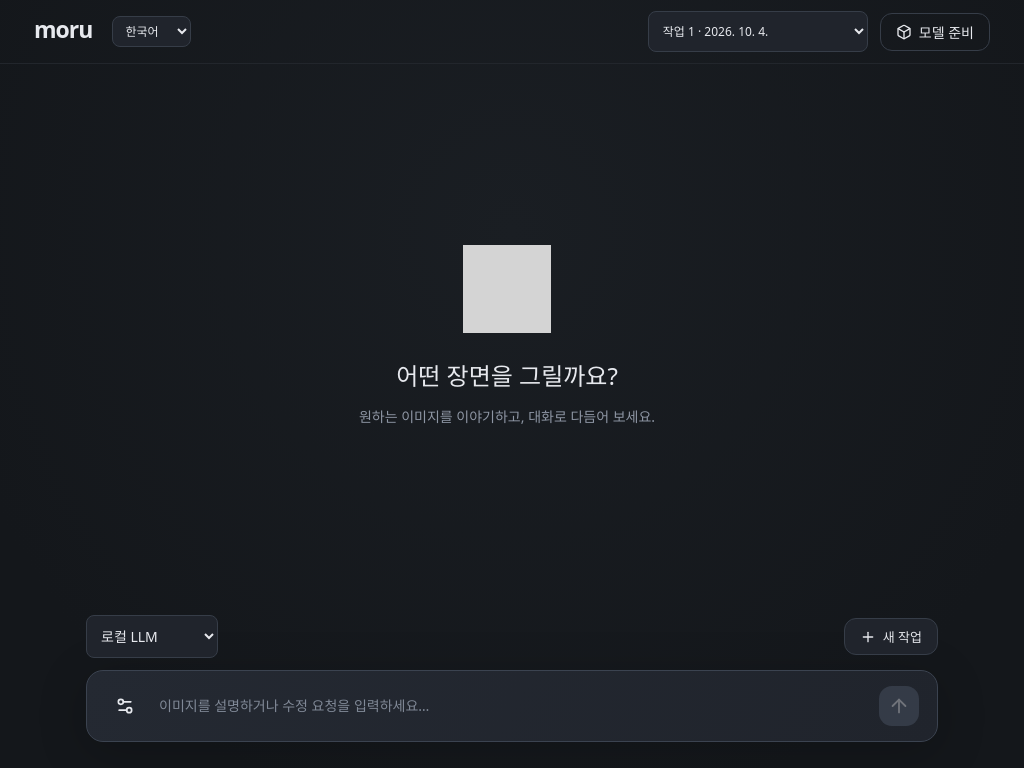
Test: changes the active model only when generation settings are saved
Expected: the heading "어떤 장면을 그릴까요?" is shown, [396,357,618,392]
Click the button "모델 준비" at (935, 32), box [880,12,990,50]
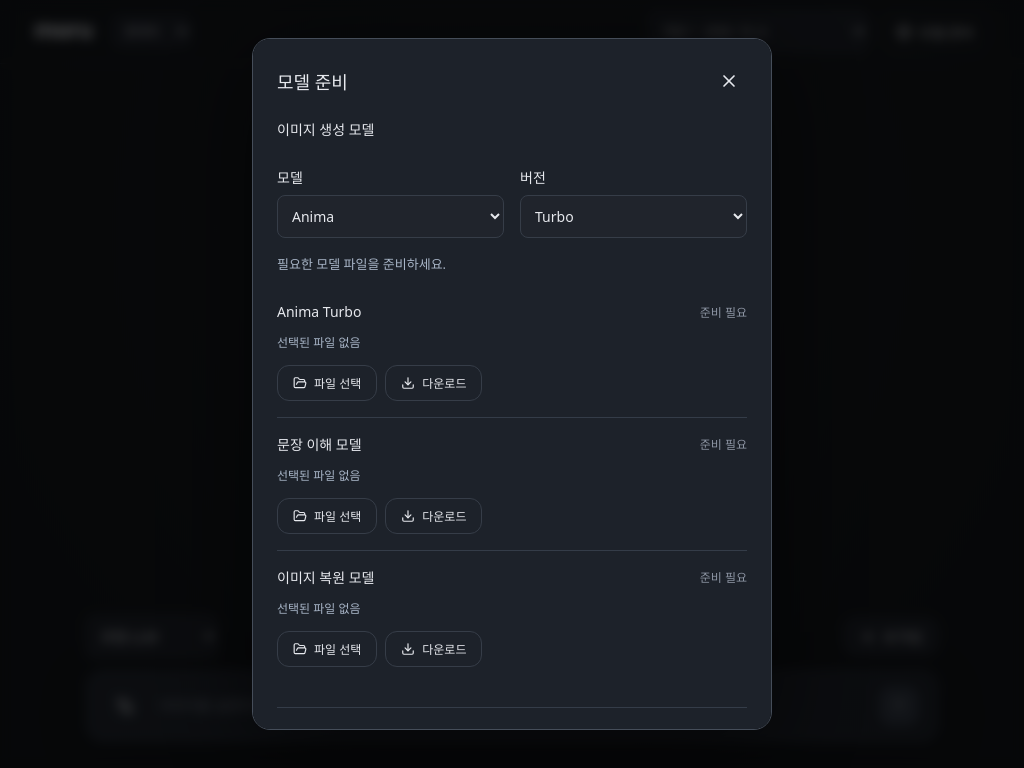
Select "Aesthetic" in the dropdown labelled "버전" at (634, 217), box [520,195,747,238]
Press Escape
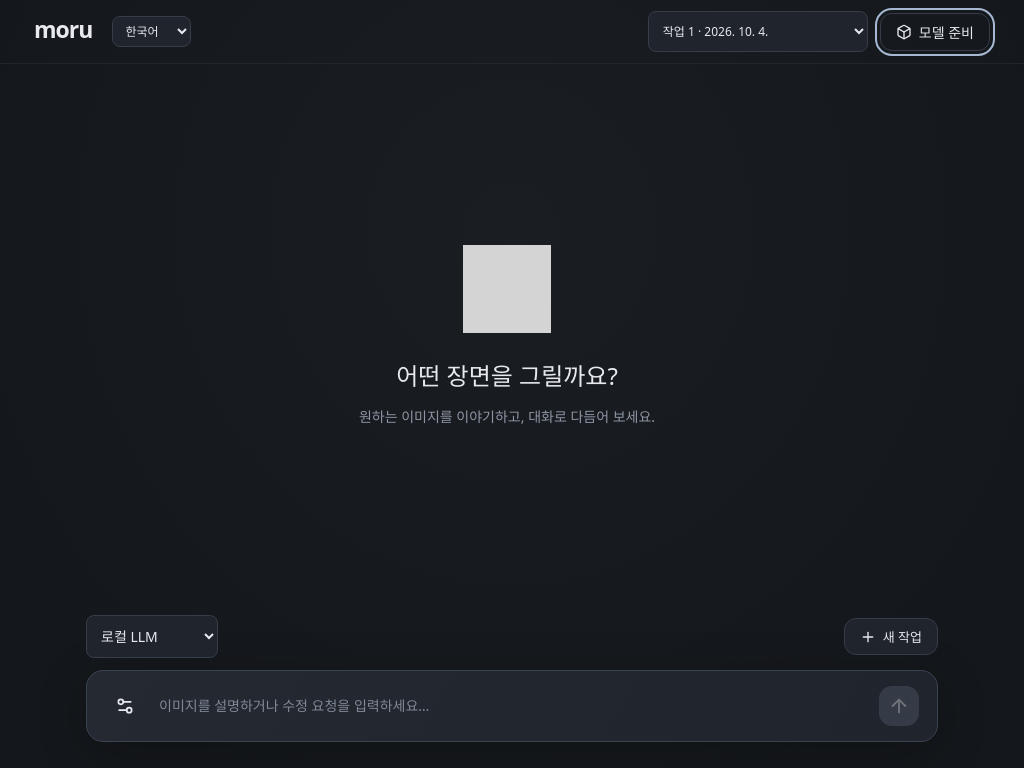
Click the button named "생성 설정" at (125, 706), box [105,686,145,726]
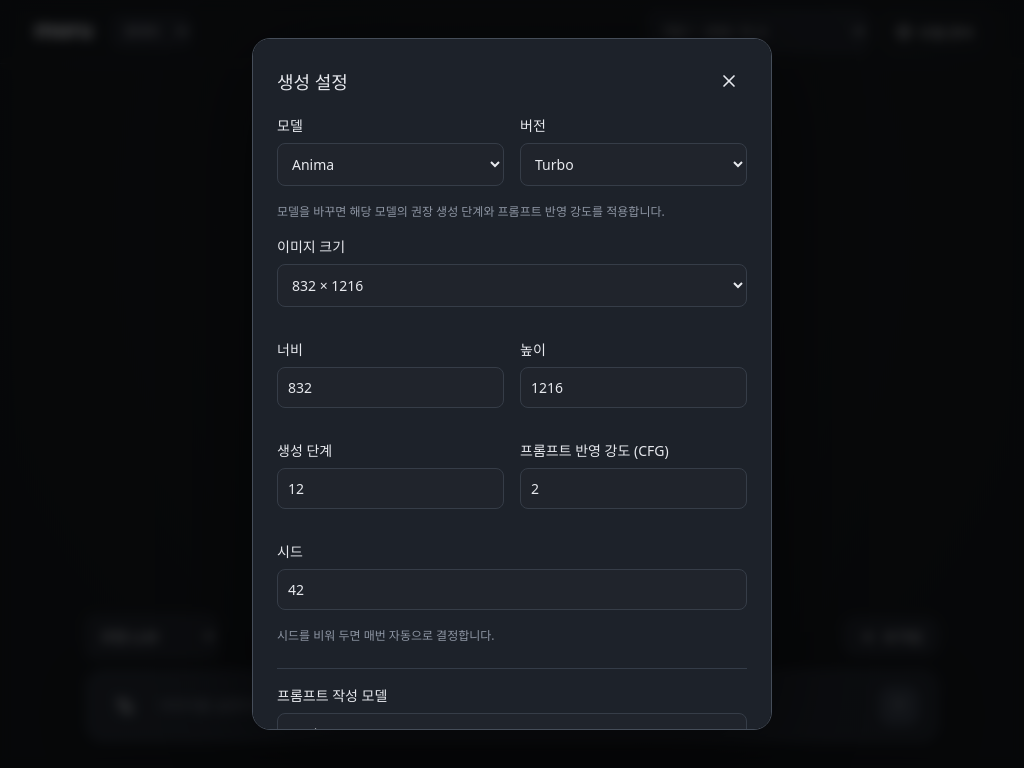
Result: the dropdown labelled "버전" shows "Turbo"
Result: the number field labelled "생성 단계" holds "12" at [277,468,504,509]
Result: the number field labelled "프롬프트 반영 강도 (CFG)" holds "2" at [520,468,747,509]
Select "Aesthetic" in the dropdown labelled "버전" at (634, 165), box [520,143,747,186]
(page scrolled)
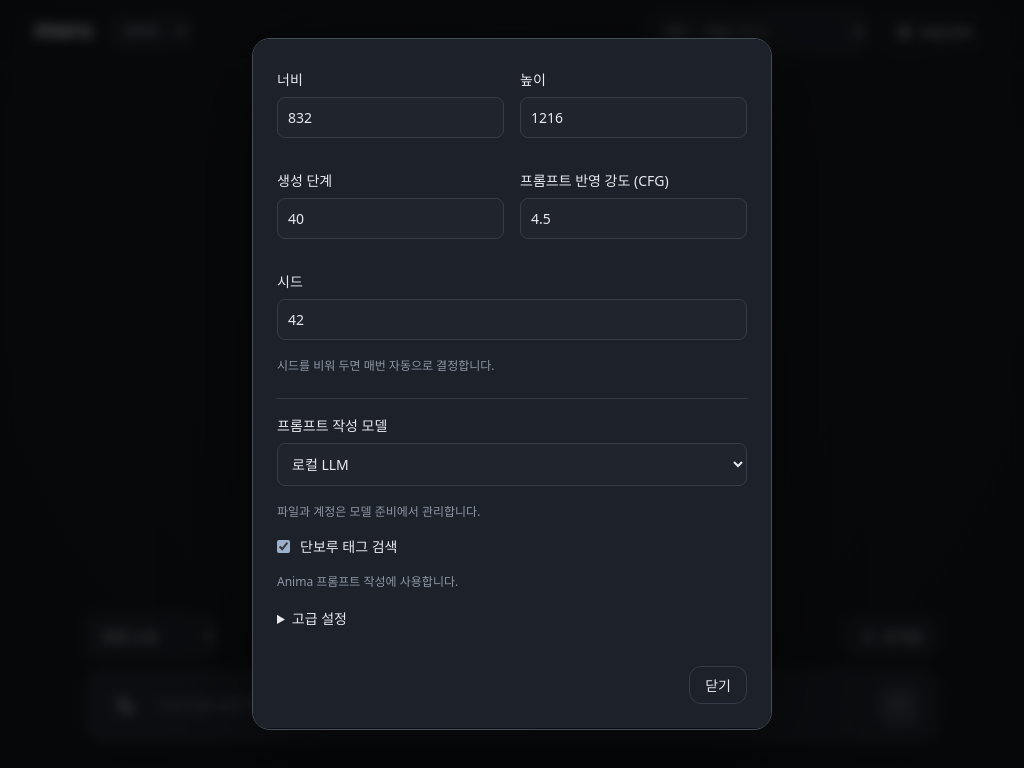
Click the button "닫기" at (718, 685), box [689,666,747,704]
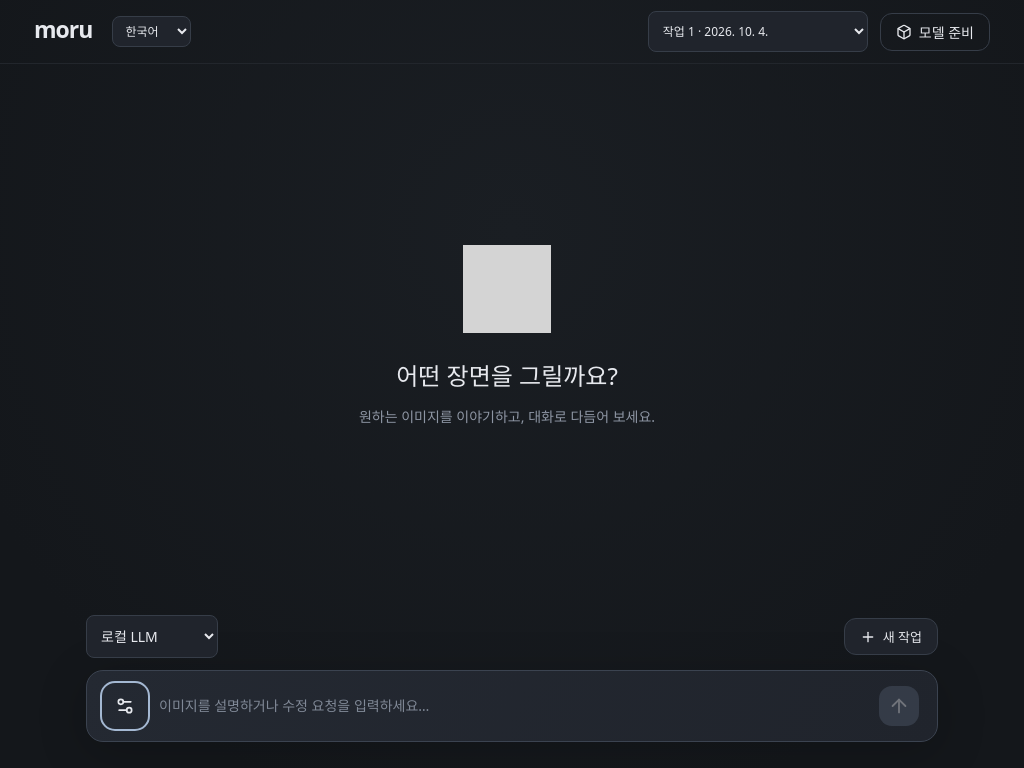
Click the button "모델 준비" at (935, 32), box [880,12,990,50]
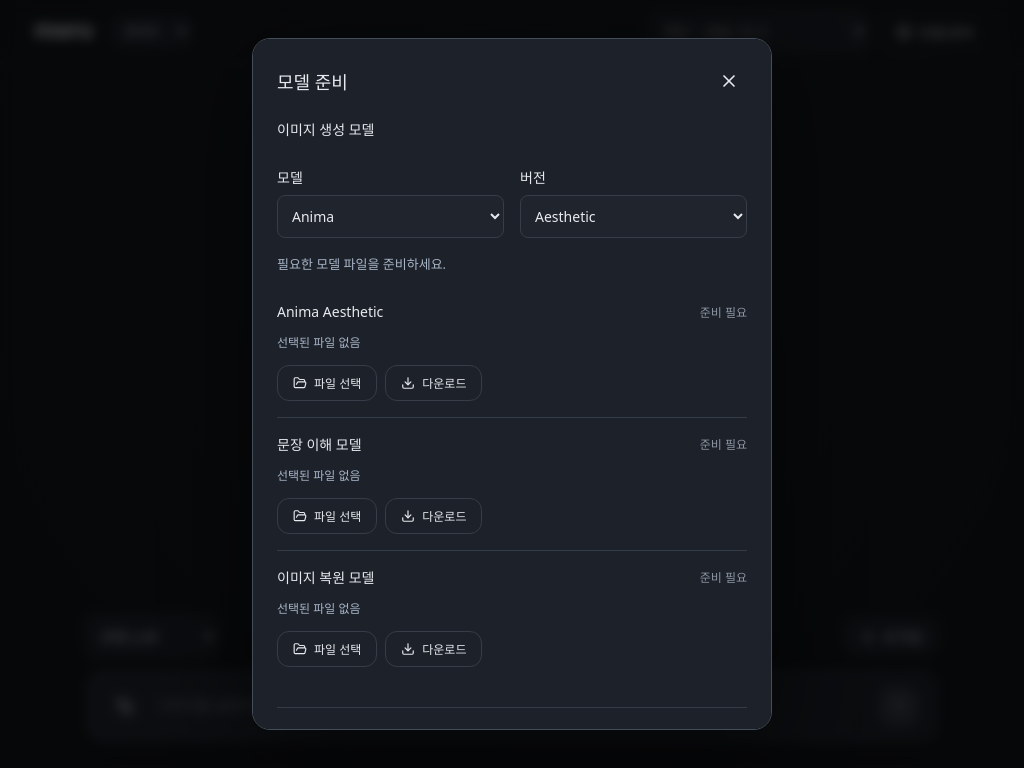
Result: the dropdown labelled "버전" shows "Aesthetic" at [520,195,747,238]
